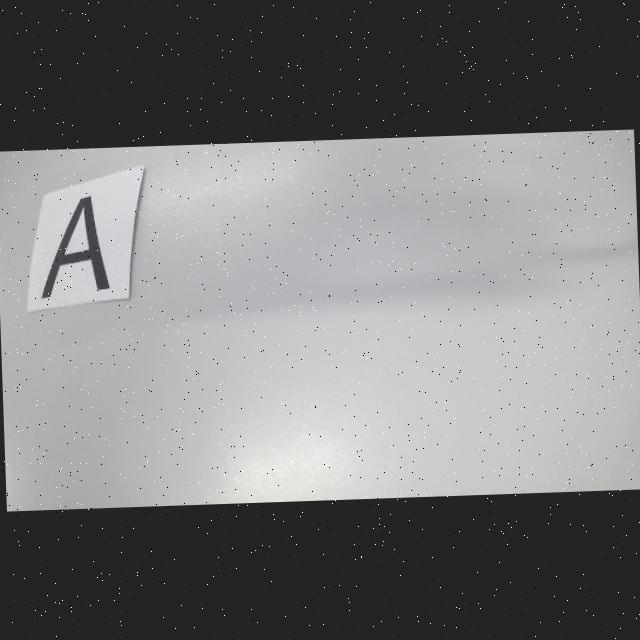FAKE: (37, 195, 110, 298)
